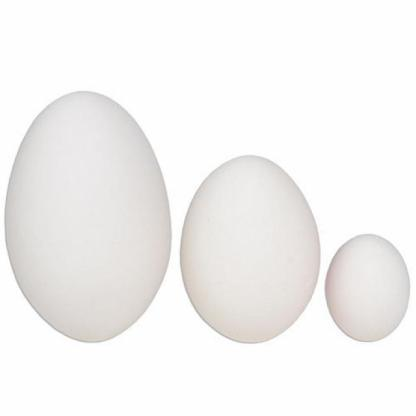egg: (0, 58, 176, 370), (181, 110, 327, 380), (328, 204, 414, 371)
